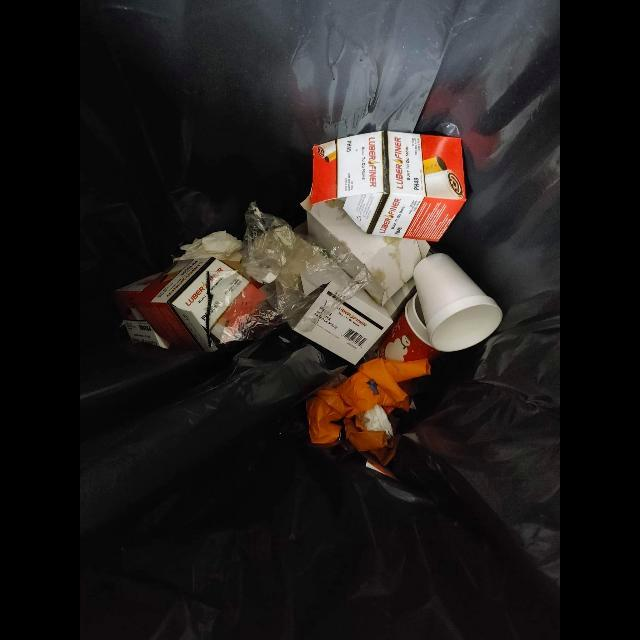cardboard: (300, 131, 470, 243), (138, 258, 266, 352), (293, 281, 393, 366), (116, 272, 169, 349)
plastic_bag: (201, 202, 372, 333)
